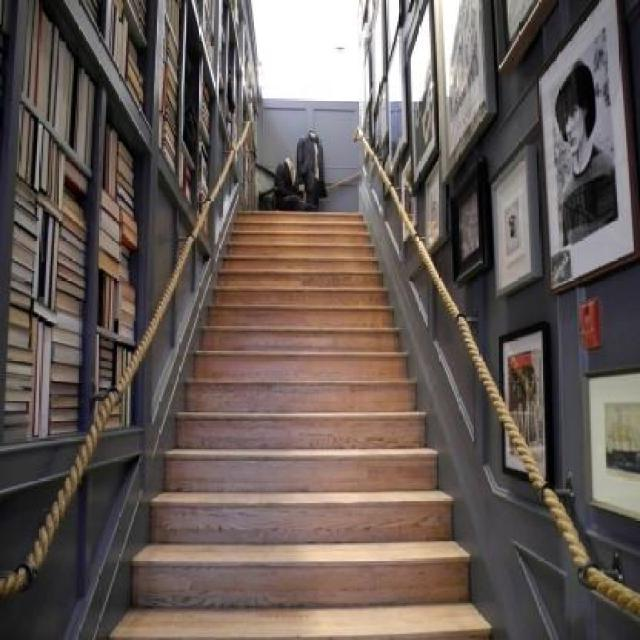stair: (108, 206, 494, 640)
